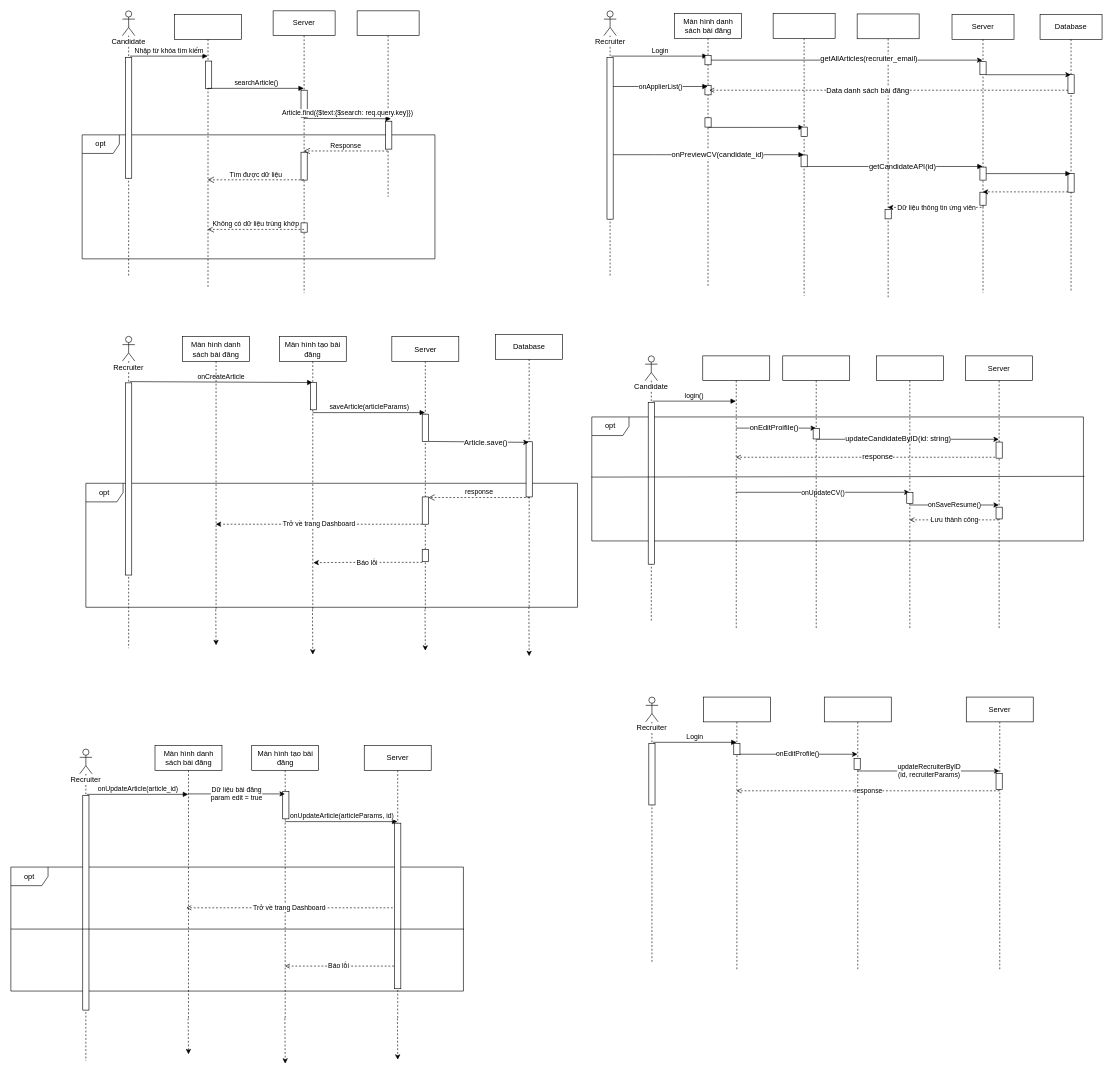
The diagram is 1113 pixels wide and 1079 high, and some of its shapes have lost their labels. The shapes that lost their labels are listed below. From the top down, each one's box as (x1, y1, x2, y2) in pixels, then its label:
(356, 10, 419, 197): Elasticsearch
(174, 14, 241, 287): Màn hình tìm kiếm bài tuyển dụng
(773, 13, 835, 296): Dialog danh sách ứng viên
(857, 13, 919, 299): Trang xem CV ứng viên
(702, 355, 770, 629): Màn hình Profile cá nhân
(782, 355, 850, 629): Dialog chỉnh sửa profile
(876, 355, 943, 629): Màn hình chỉnh sửa CV
(703, 696, 770, 970): Màn hình Dashboard
(824, 696, 891, 970): Màn hình chỉnh sửa thông tin
